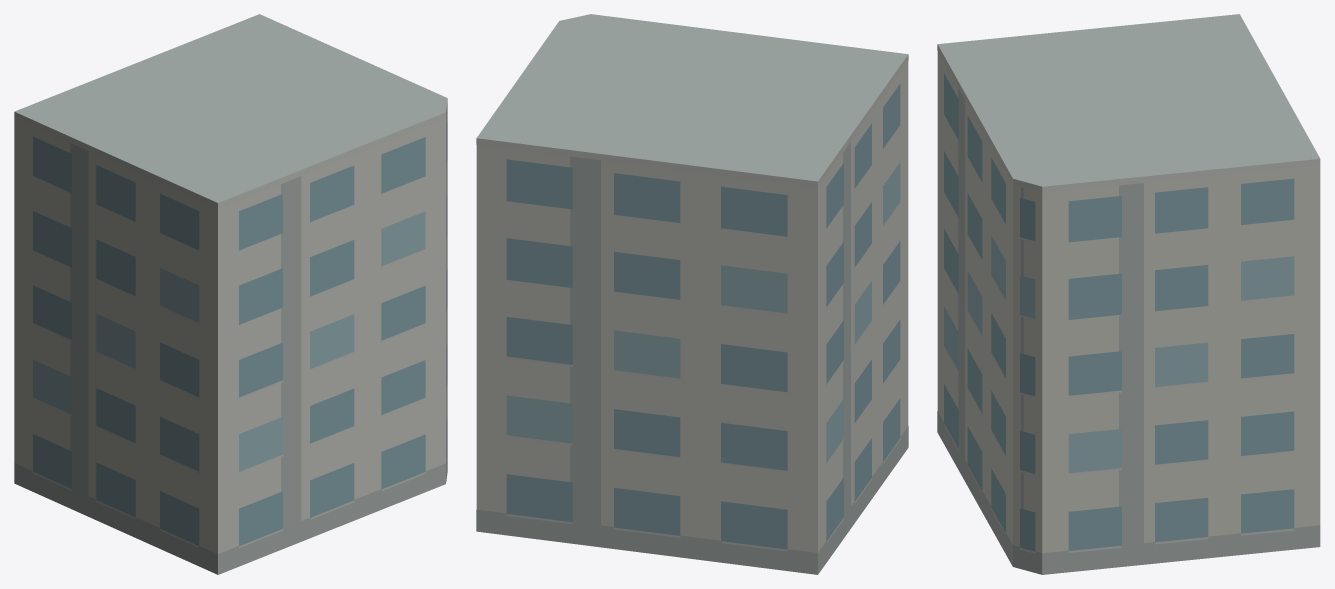
File: survey-upis-32815323.glb
The picture shows the model from 3 angles, left to right: view 1: azimuth 30°, elevation 25°; view 2: azimuth 150°, elevation 25°; view 3: azimuth 270°, elevation 25°; orthographic projection. The views are drawn at different scales.
Parts seen in each view (by area): view 1: survey-upis-32815323.tmp; view 2: survey-upis-32815323.tmp; view 3: survey-upis-32815323.tmp.
Boxes of the visible parts, <box> form: survey-upis-32815323.tmp: <box>14,14,447,574</box>; survey-upis-32815323.tmp: <box>476,14,908,574</box>; survey-upis-32815323.tmp: <box>937,14,1320,574</box>.
Bounding box in the file's own units: 14.13 × 14.8 × 13.24.
